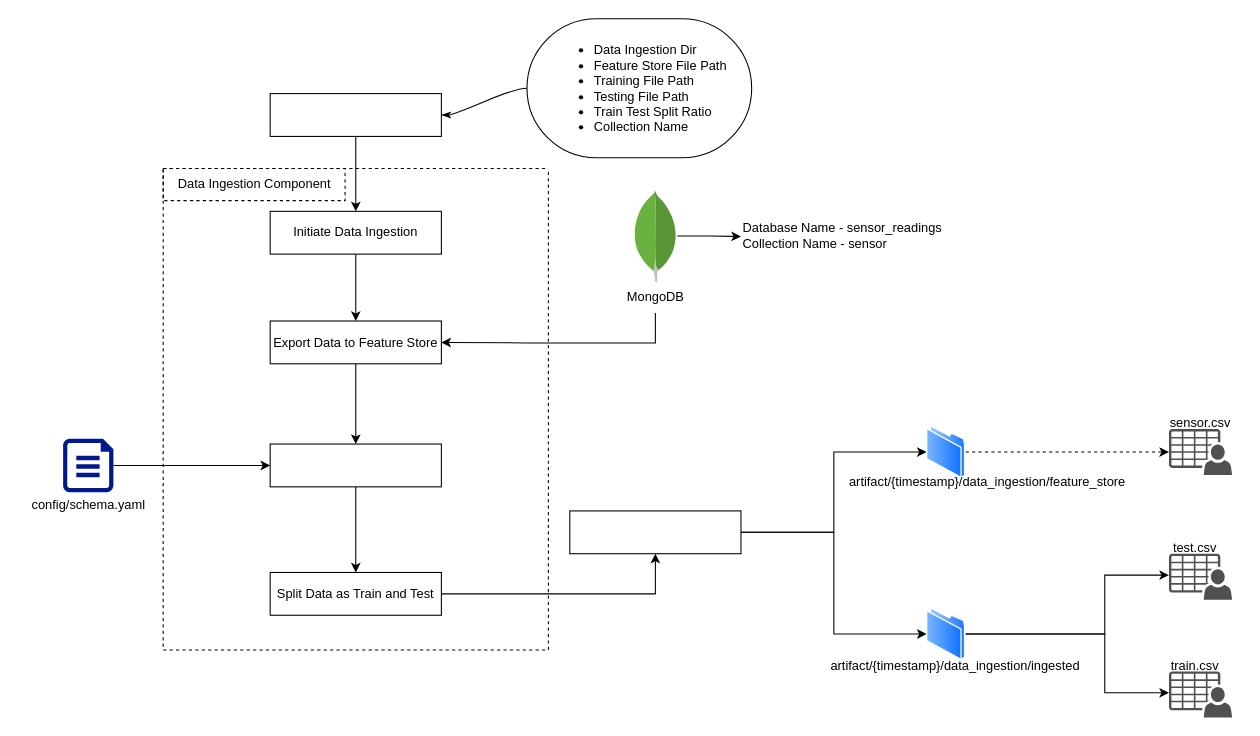
Some shapes in this 1260 by 736 pixel diagram are drawn without their labels. The shapes that lost their labels are listed below. From the top down, each one's box as (x1, y1, x2, y2) in pixels, then its label:
(269, 93, 441, 136): Data Ingestion Config
(269, 443, 441, 487): Drop Columns
(569, 510, 741, 554): Data Ingestion Artifact
